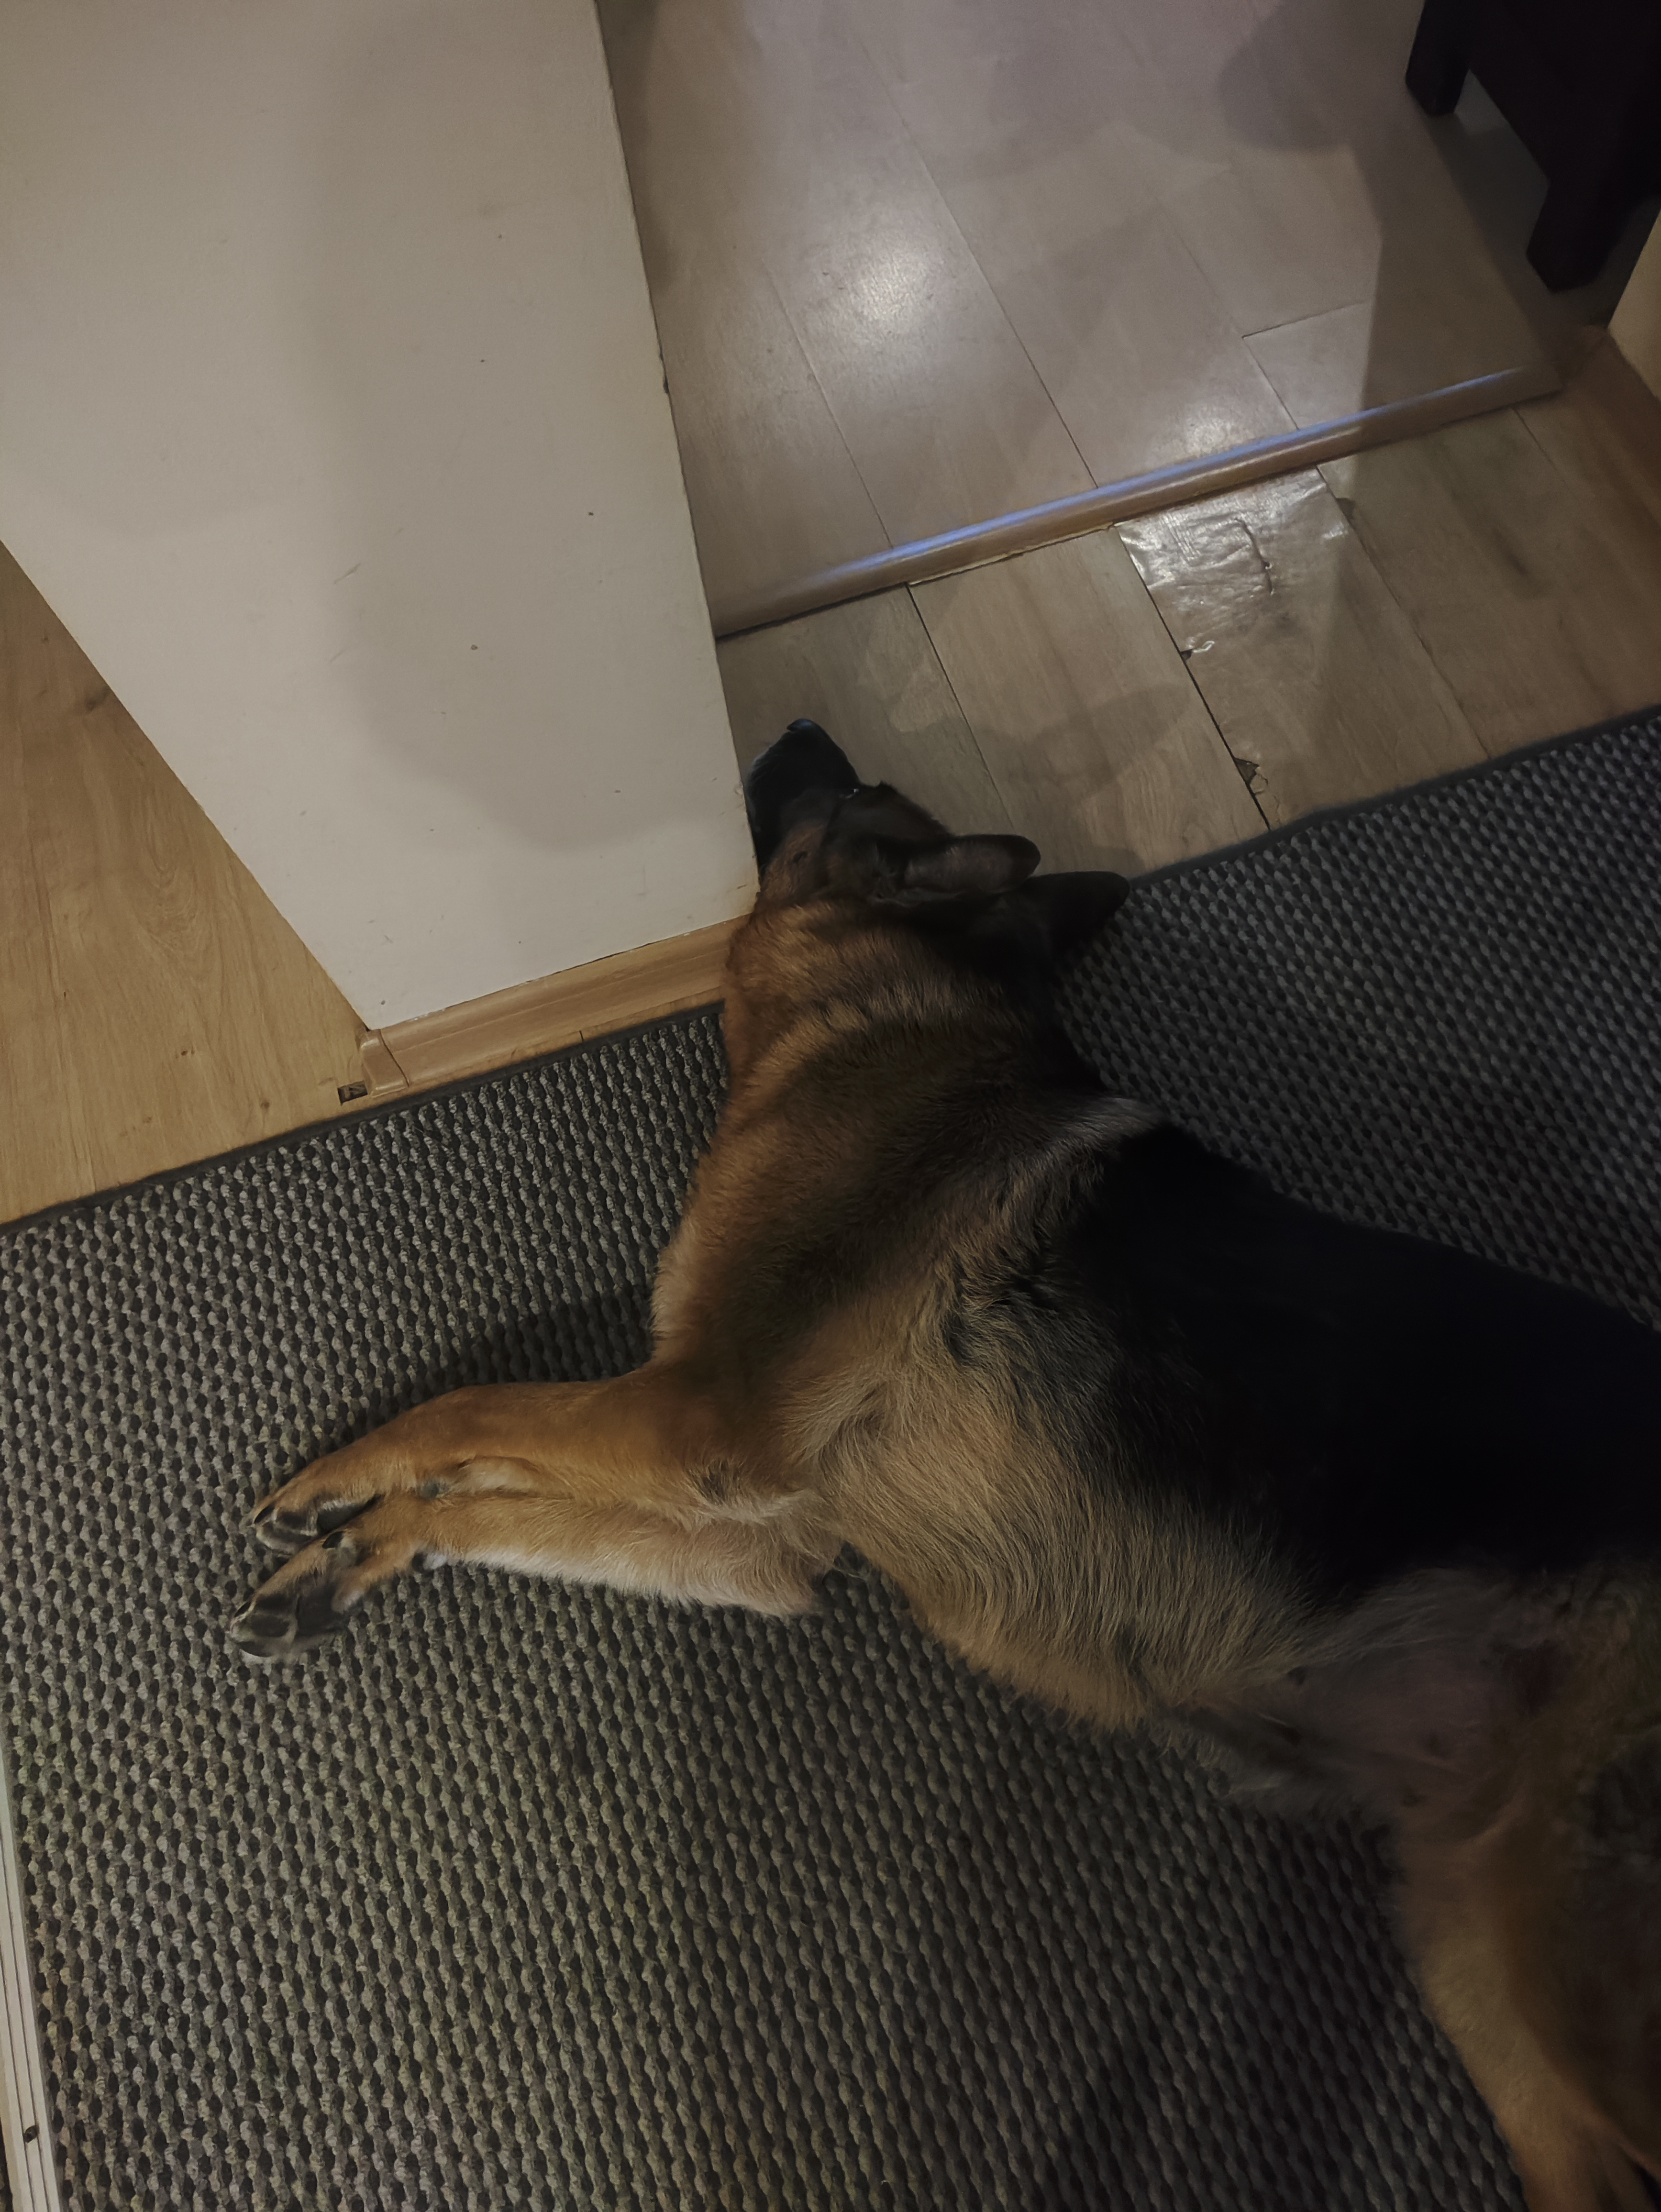dog: (243, 623, 1647, 2186)
